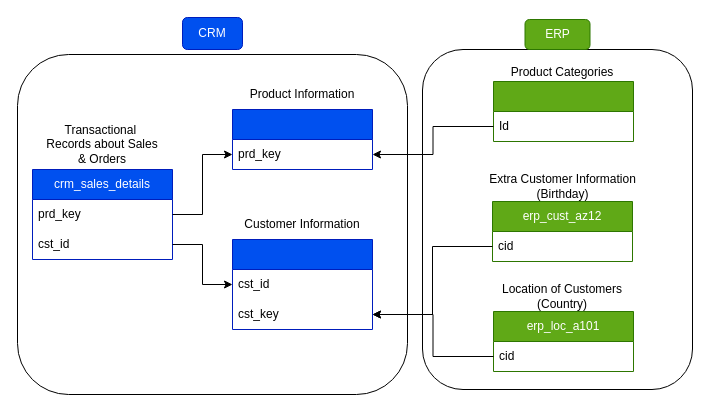
Image size: 710x412. Some labels were removed from this diagram. Each missing label, with the box of its shape:
crm_cust_info: (232, 238, 372, 330)
crm_prd_info: (232, 108, 372, 170)
erp_px_cat_g1v2: (492, 80, 634, 142)
